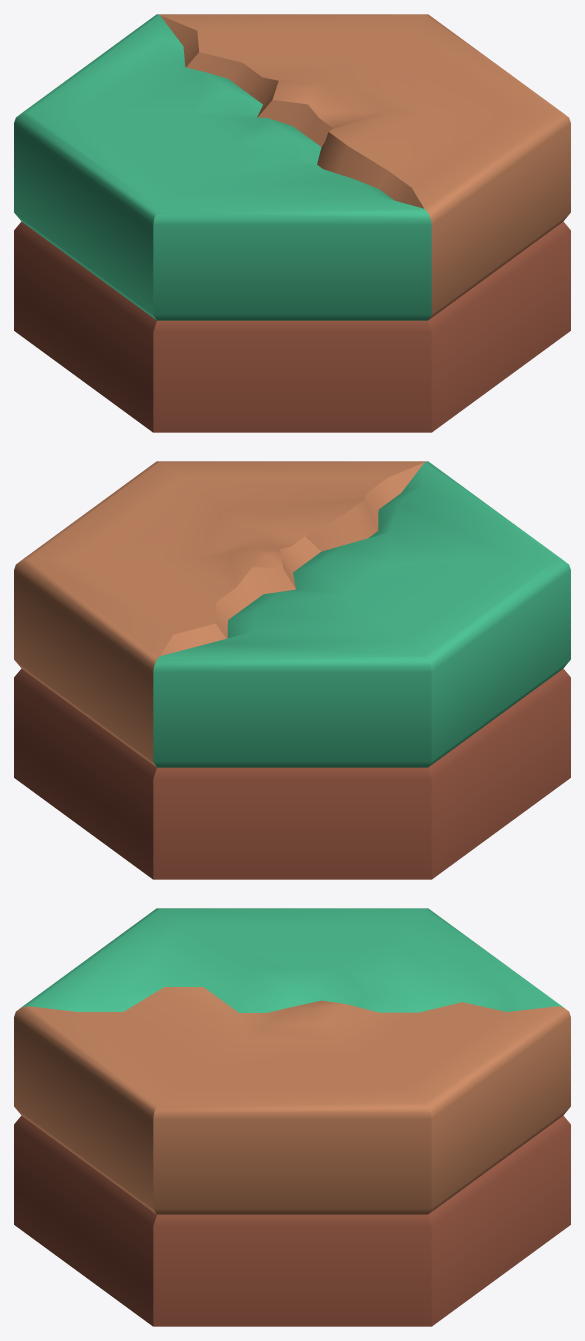
Rendered from hex_forest_transitionA.glb.
3 views of the same model, one above another, from view 1: azimuth 30°, elevation 25°; view 2: azimuth 150°, elevation 25°; view 3: azimuth 270°, elevation 25° (orthographic).
Parts seen in each view (by area): view 1: hex_forest_transitionA; view 2: hex_forest_transitionA; view 3: hex_forest_transitionA.
Boxes of the visible parts, <box> form: hex_forest_transitionA: <box>14,14,570,432</box>; hex_forest_transitionA: <box>14,461,570,879</box>; hex_forest_transitionA: <box>14,908,570,1326</box>.
Size of the model in its own units: 3.82 by 2.04 by 4.41.
